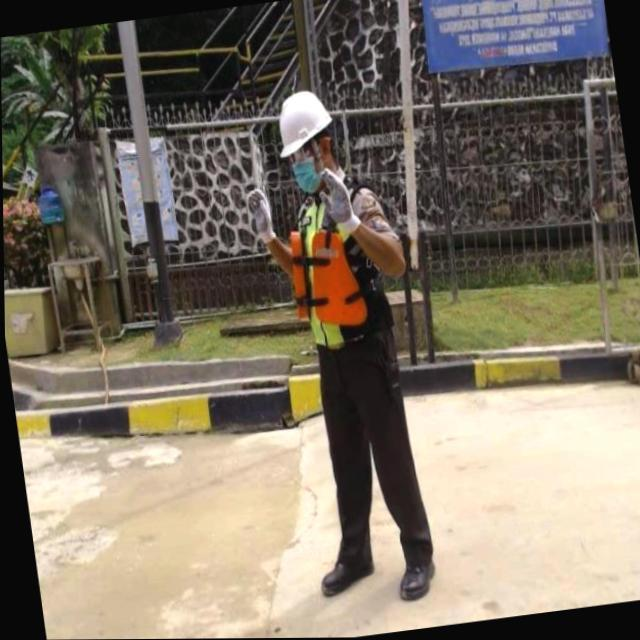goggles_on: (283, 133, 337, 164)
